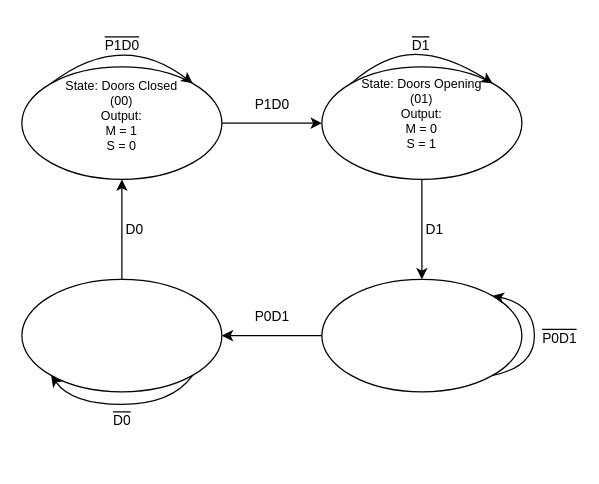
Some shapes in this 599 by 484 pixel diagram are drawn without their labels. The centre of each missing label's shape, as x and y in pixels:
State: Doors Closing (11) Output: M = 0 S = 0: the point at 121,335
State: Doors Open (10) Output: M = 0 S = 1: the point at 421,335
